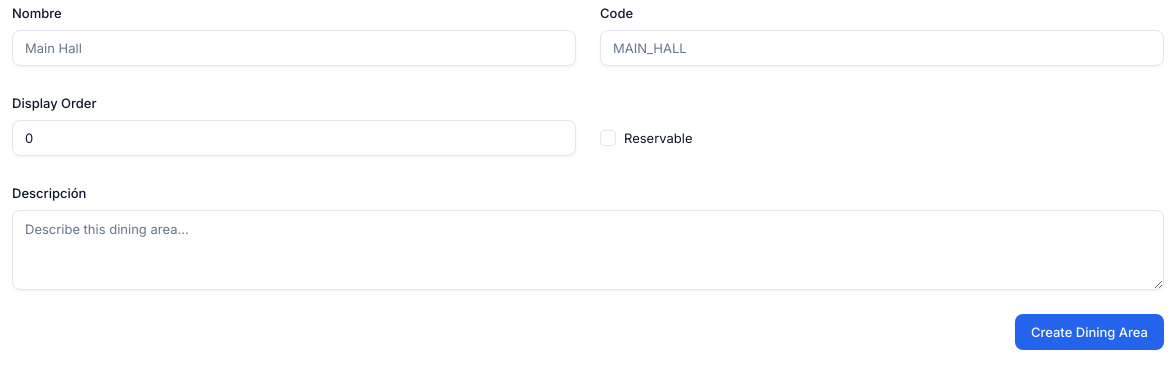
Test: DiningAreaForm › shows validation errors for required fields
Click the button "Create Dining Area". click: click(1089, 332)
box: 1015,314 -> 1164,350
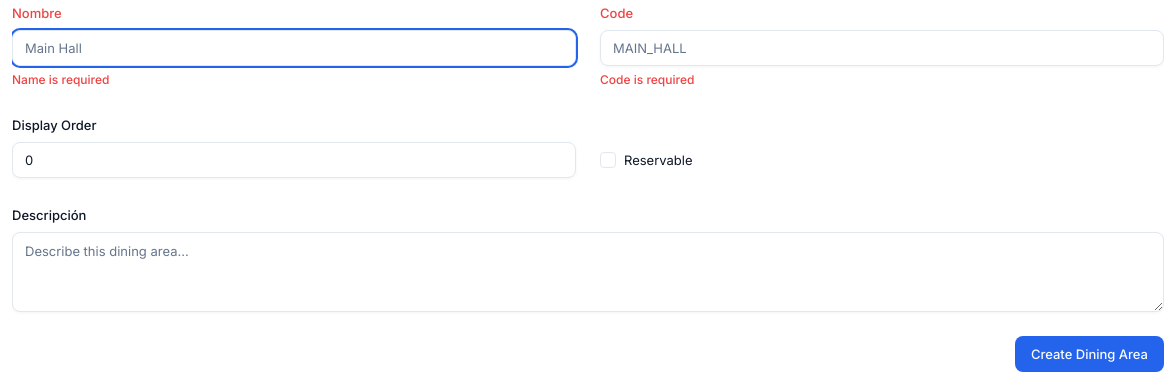
Check: the text "Name is required" is shown, box 12,72 -> 110,87
Check: the text "Code is required" is shown, box 600,72 -> 694,87
